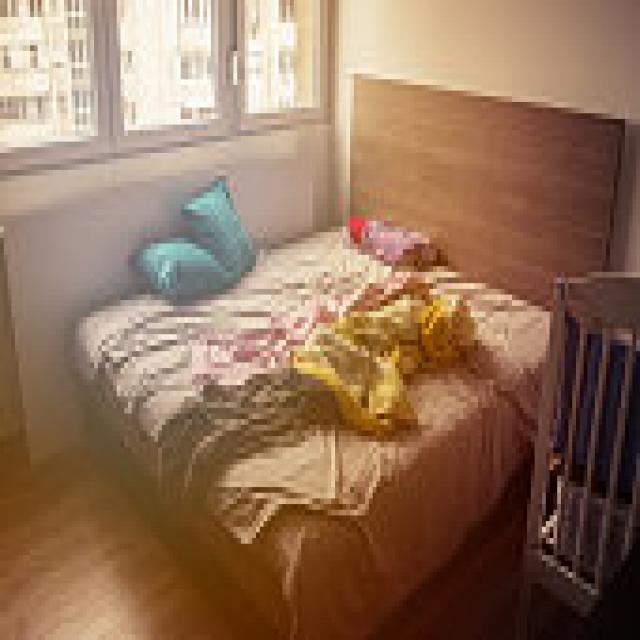bed: (97, 204, 585, 559)
